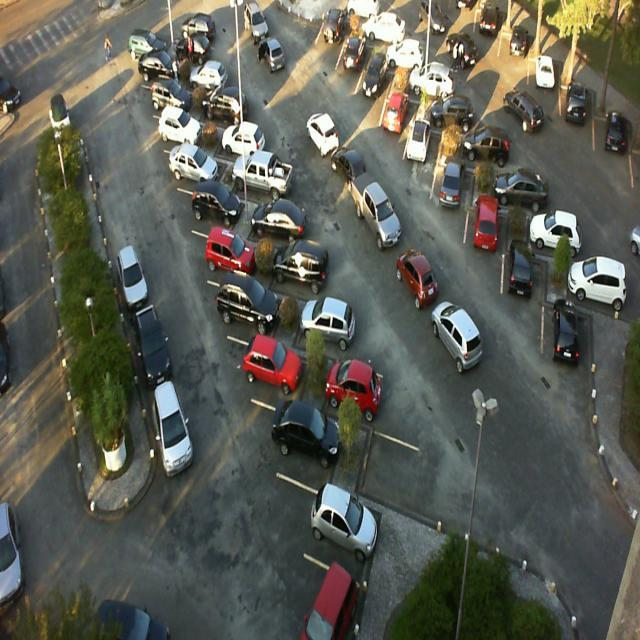space-empty: (365, 425, 432, 507)
space-occupied: (304, 468, 388, 582), (271, 390, 348, 479), (317, 353, 388, 431), (245, 326, 312, 406), (223, 270, 286, 343), (302, 288, 362, 358), (272, 235, 337, 297), (570, 260, 630, 322), (542, 303, 591, 374), (204, 224, 262, 281), (254, 192, 315, 246), (192, 176, 248, 234), (237, 148, 295, 200), (533, 205, 585, 263), (468, 198, 507, 272), (503, 241, 543, 312), (202, 78, 258, 127), (496, 165, 552, 214), (171, 139, 224, 188), (431, 163, 472, 225), (400, 122, 442, 182), (158, 101, 207, 151), (464, 124, 514, 170), (315, 9, 352, 68), (380, 92, 416, 152), (222, 117, 272, 160), (410, 61, 458, 104), (354, 63, 392, 116), (335, 40, 372, 94), (151, 75, 197, 116), (561, 75, 590, 136), (139, 46, 182, 87), (434, 94, 478, 134), (175, 31, 220, 68), (366, 11, 411, 48), (192, 58, 237, 94), (500, 30, 532, 79), (529, 50, 560, 100), (389, 38, 428, 74)
